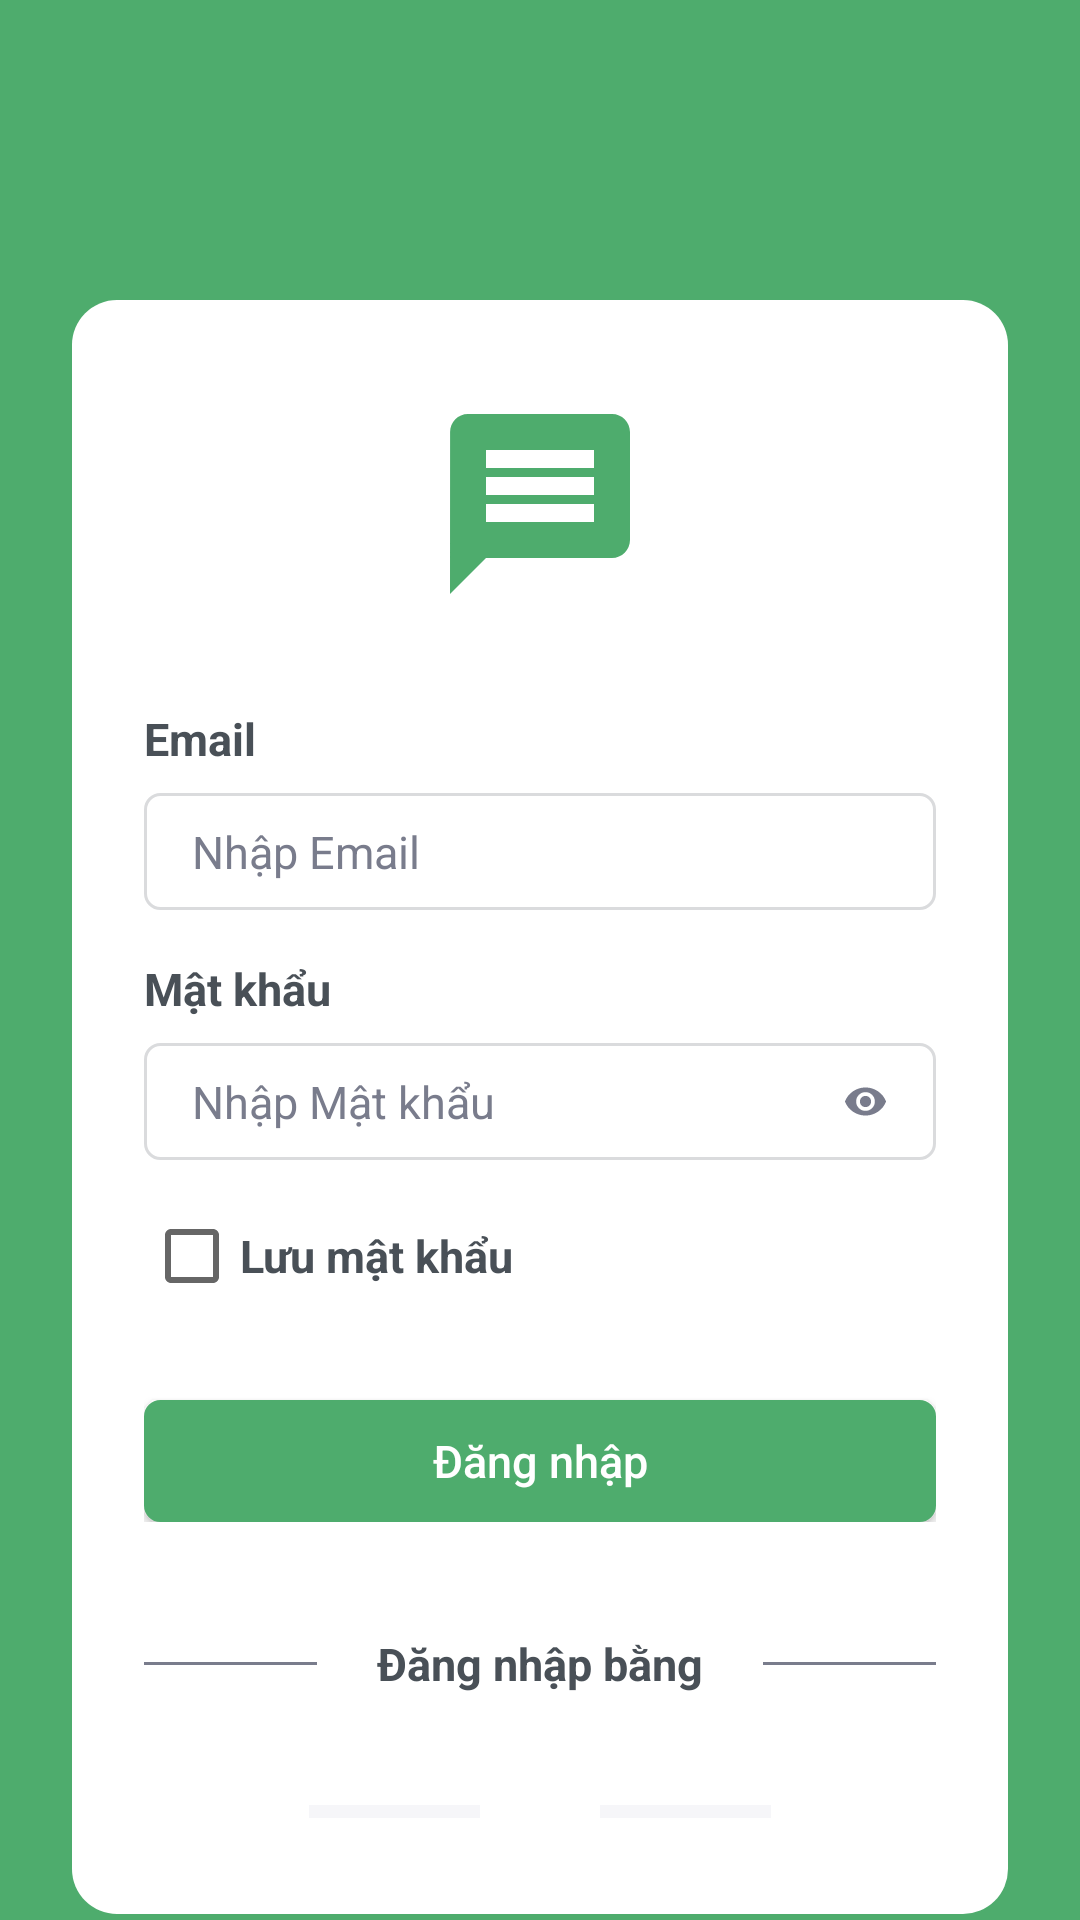

Icons on this 1080×1920 Android screen, each with the point to tap as [x,y]:
eye: [865,1101]
message: [540,504]
